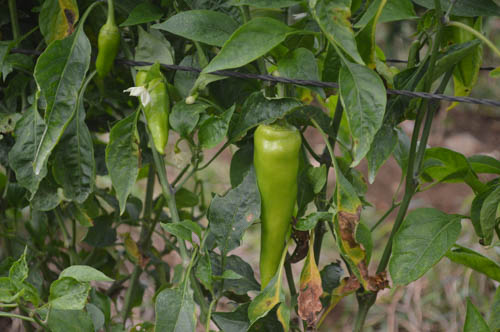ChiliPepper: (254, 124, 304, 286), (136, 73, 171, 157), (91, 27, 118, 74)
